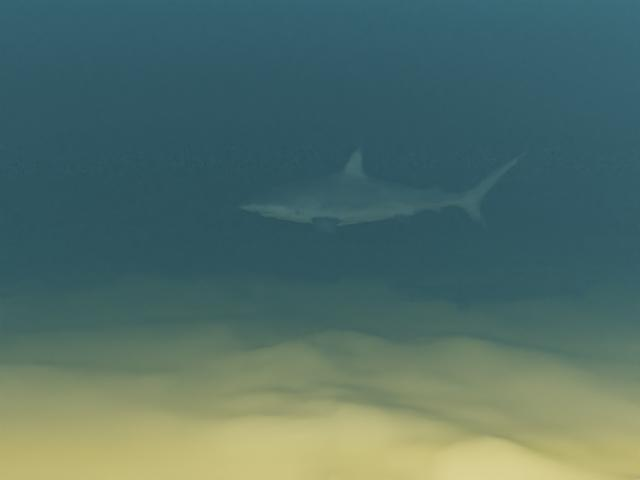Carribean Shark.001: (238, 145, 530, 240)
